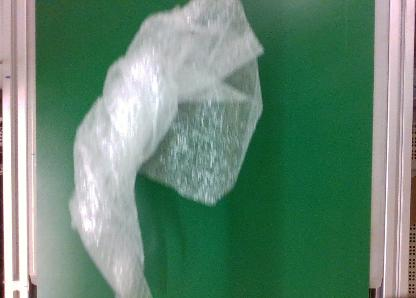Others: (69, 2, 265, 298)
